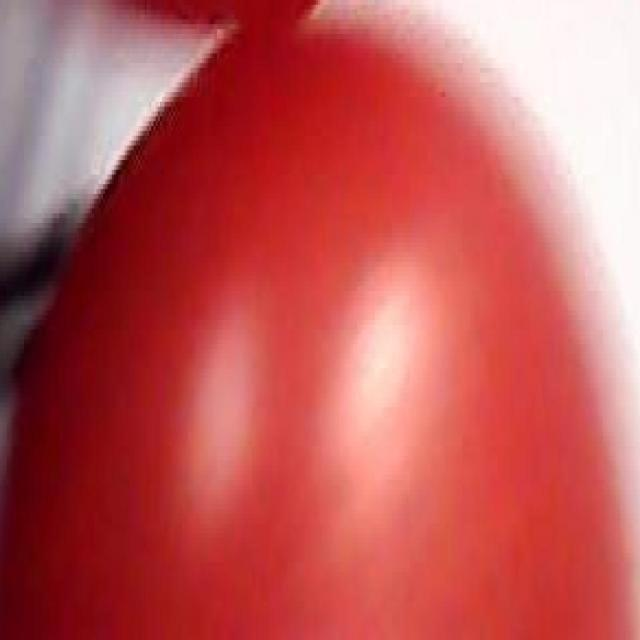Healthy Fruit: (2, 3, 427, 427)
